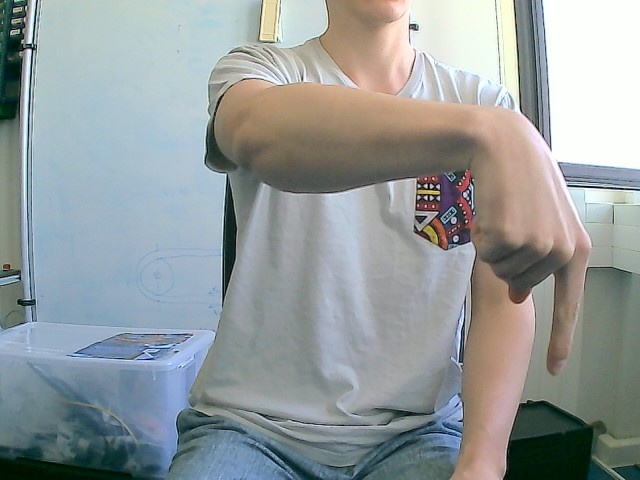down: (467, 104, 593, 376)
